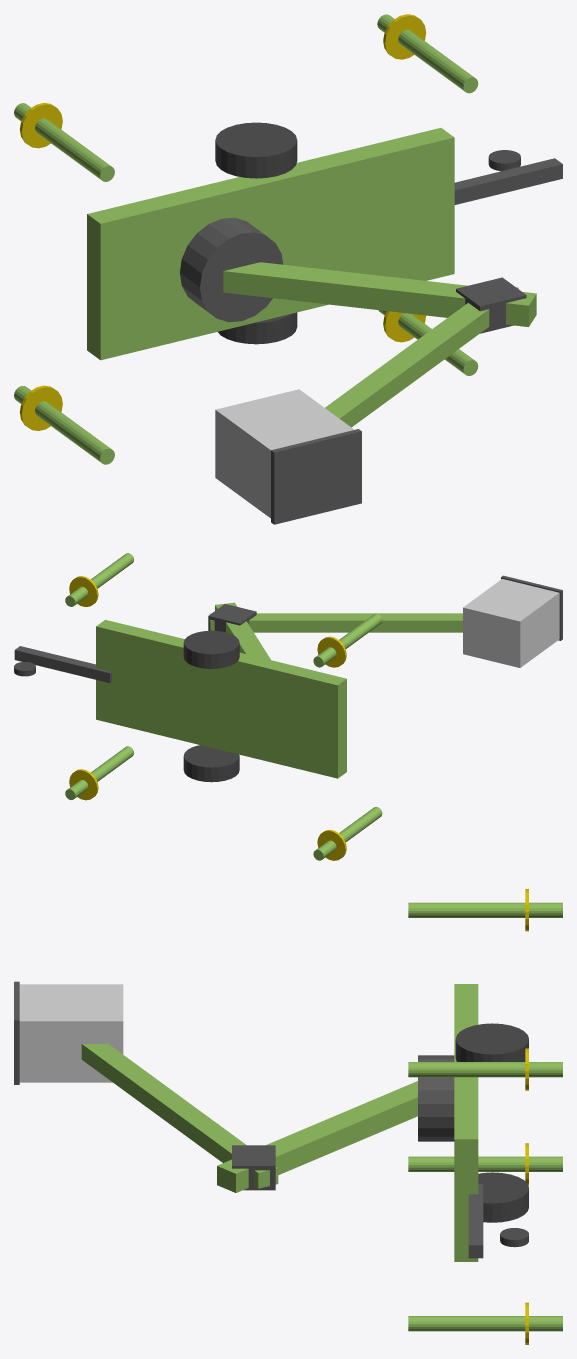
Rendered from enmax_embl10a_trailer_boom.glb.
3 renders of one model, top to bottom at view 1: azimuth 30°, elevation 25°; view 2: azimuth 150°, elevation 25°; view 3: azimuth 270°, elevation 25°, orthographic. The views are drawn at different scales.
Parts seen in each view (by area): view 1: trailer_chassis, lower_articulating_arm, compact_basket_09x07_200kg, basket_top_railing, articulating_turntable, upper_telescopic_boom, trailer_wheel_0.85, tow_bar_hitch, pantograph_knuckle_joint, spider_leg_1.8_1.45, spider_leg_-2.1_-1.45, spider_leg_-2.1_1.45 (+6 smaller); view 2: trailer_chassis, compact_basket_09x07_200kg, upper_telescopic_boom, trailer_wheel_0.85, trailer_wheel_-0.85, tow_bar_hitch, lower_articulating_arm, spider_leg_-2.1_-1.45, spider_leg_-2.1_1.45, spider_leg_1.8_-1.45, spider_leg_1.8_1.45, pantograph_knuckle_joint (+5 smaller); view 3: compact_basket_09x07_200kg, lower_articulating_arm, upper_telescopic_boom, trailer_chassis, articulating_turntable, trailer_wheel_0.85, spider_leg_-2.1_1.45, spider_leg_1.8_-1.45, spider_leg_1.8_1.45, trailer_wheel_-0.85, spider_leg_-2.1_-1.45, pantograph_knuckle_joint (+2 smaller).
Part boxes in pixels (x1,y1,x2,y2): trailer_chassis: (87, 128, 454, 360); lower_articulating_arm: (223, 262, 536, 326); compact_basket_09x07_200kg: (215, 389, 354, 518); basket_top_railing: (271, 429, 361, 524); articulating_turntable: (180, 217, 283, 322); upper_telescopic_boom: (325, 287, 518, 427); trailer_wheel_0.85: (215, 122, 297, 178); tow_bar_hitch: (454, 158, 562, 204); pantograph_knuckle_joint: (456, 277, 526, 333); spider_leg_1.8_1.45: (377, 14, 478, 93); spider_leg_-2.1_-1.45: (14, 386, 114, 464); spider_leg_-2.1_1.45: (14, 103, 114, 181); trailer_chassis: (96, 619, 346, 778); compact_basket_09x07_200kg: (463, 579, 559, 667); upper_telescopic_boom: (210, 613, 462, 632); trailer_wheel_0.85: (183, 630, 239, 668); trailer_wheel_-0.85: (183, 745, 239, 782); tow_bar_hitch: (14, 646, 111, 682); lower_articulating_arm: (215, 602, 270, 659); spider_leg_-2.1_-1.45: (313, 807, 382, 860); spider_leg_-2.1_1.45: (313, 613, 382, 667); spider_leg_1.8_-1.45: (65, 746, 133, 799); spider_leg_1.8_1.45: (65, 553, 133, 606); pantograph_knuckle_joint: (208, 604, 256, 632); compact_basket_09x07_200kg: (19, 984, 123, 1082); lower_articulating_arm: (217, 1081, 417, 1192); upper_telescopic_boom: (81, 1044, 278, 1188); trailer_chassis: (454, 984, 478, 1261); articulating_turntable: (418, 1055, 454, 1141); trailer_wheel_0.85: (455, 1023, 528, 1061); spider_leg_-2.1_1.45: (408, 902, 562, 917); spider_leg_1.8_-1.45: (408, 1316, 562, 1331); spider_leg_1.8_1.45: (408, 1062, 562, 1077); trailer_wheel_-0.85: (478, 1172, 528, 1222); spider_leg_-2.1_-1.45: (408, 1156, 562, 1171); pantograph_knuckle_joint: (232, 1145, 275, 1190).
Size of the model in its own units: 5.81 by 3.33 by 5.68.
